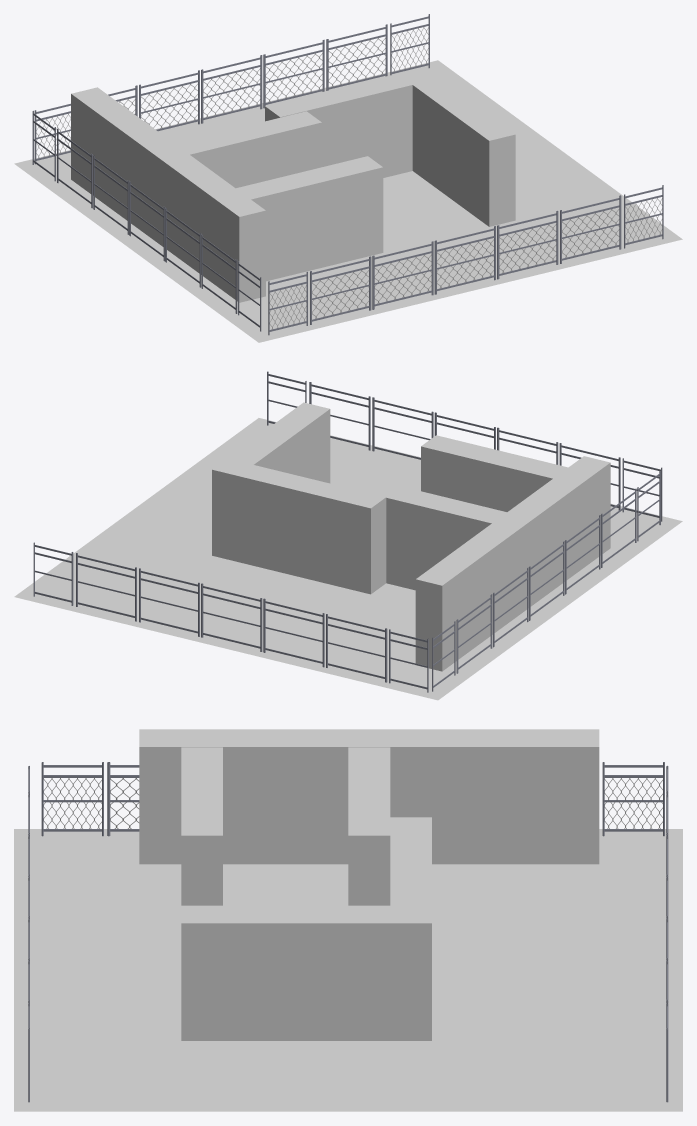
The model's file is dartplatform.glb.
3 views of the same model, one above another, from view 1: azimuth 30°, elevation 25°; view 2: azimuth 150°, elevation 25°; view 3: azimuth 270°, elevation 25° (orthographic). The views are drawn at different scales.
Parts seen in each view (by area): view 1: walls, ground, MetalFence; view 2: walls, ground, MetalFence; view 3: ground, walls, MetalFence.
Boxes of the visible parts, left/top/right/bottom form: walls: left=71, top=67, right=515, bottom=302; ground: left=14, top=60, right=682, bottom=342; MetalFence: left=32, top=14, right=663, bottom=335; walls: left=212, top=402, right=610, bottom=671; ground: left=14, top=418, right=682, bottom=700; MetalFence: left=33, top=371, right=662, bottom=692; ground: left=14, top=829, right=682, bottom=1111; walls: left=139, top=729, right=599, bottom=1040; MetalFence: left=28, top=762, right=668, bottom=1102.
Bounding box in the file's own units: 40.74 × 7.91 × 40.74.
Materials: 2 (1 with a texture image).
